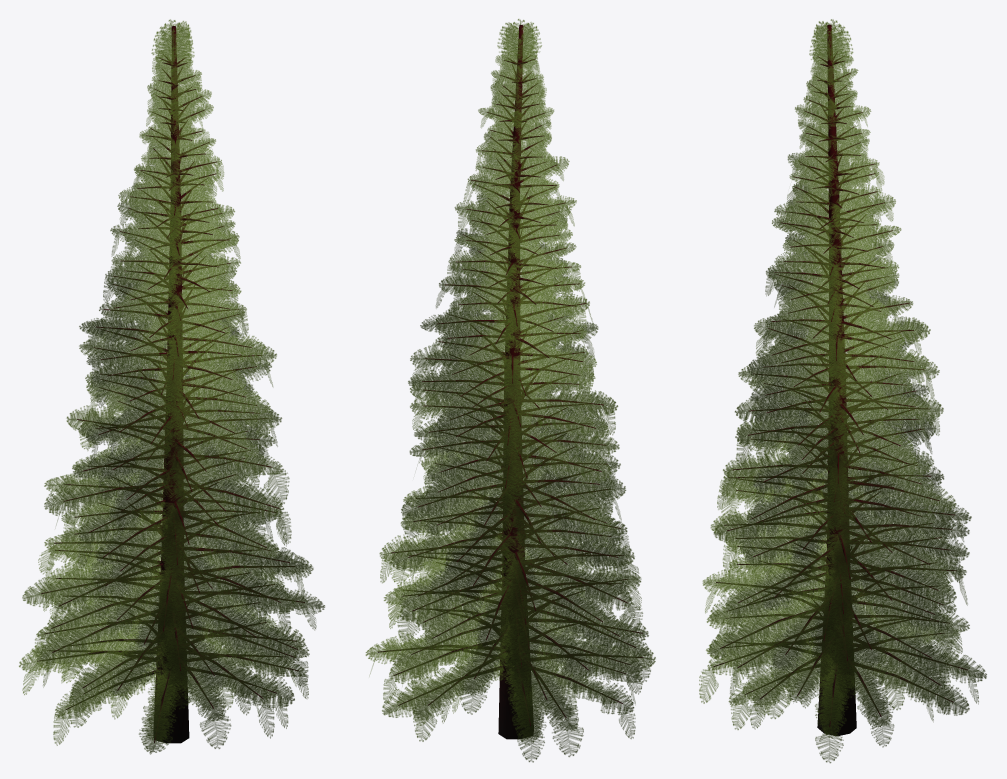
Rendered from larch_sparse_v03_LOD1.glb.
The picture shows the model from 3 angles, left to right: view 1: azimuth 30°, elevation 25°; view 2: azimuth 150°, elevation 25°; view 3: azimuth 270°, elevation 25°; orthographic projection.
Parts seen in each view (by area): view 1: larch_sparse_v03_LOD1; view 2: larch_sparse_v03_LOD1; view 3: larch_sparse_v03_LOD1.
Boxes of the visible parts, x1,y1,x2,y2 form: larch_sparse_v03_LOD1: [19, 19, 324, 754]; larch_sparse_v03_LOD1: [365, 19, 655, 762]; larch_sparse_v03_LOD1: [699, 19, 986, 763].
Size of the model in its own units: 8.09 by 20.21 by 7.75.
2 materials, 2 textured.
